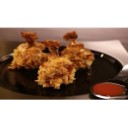chicken_lollipop: (40, 38, 74, 87), (11, 30, 44, 71), (62, 31, 94, 66)
